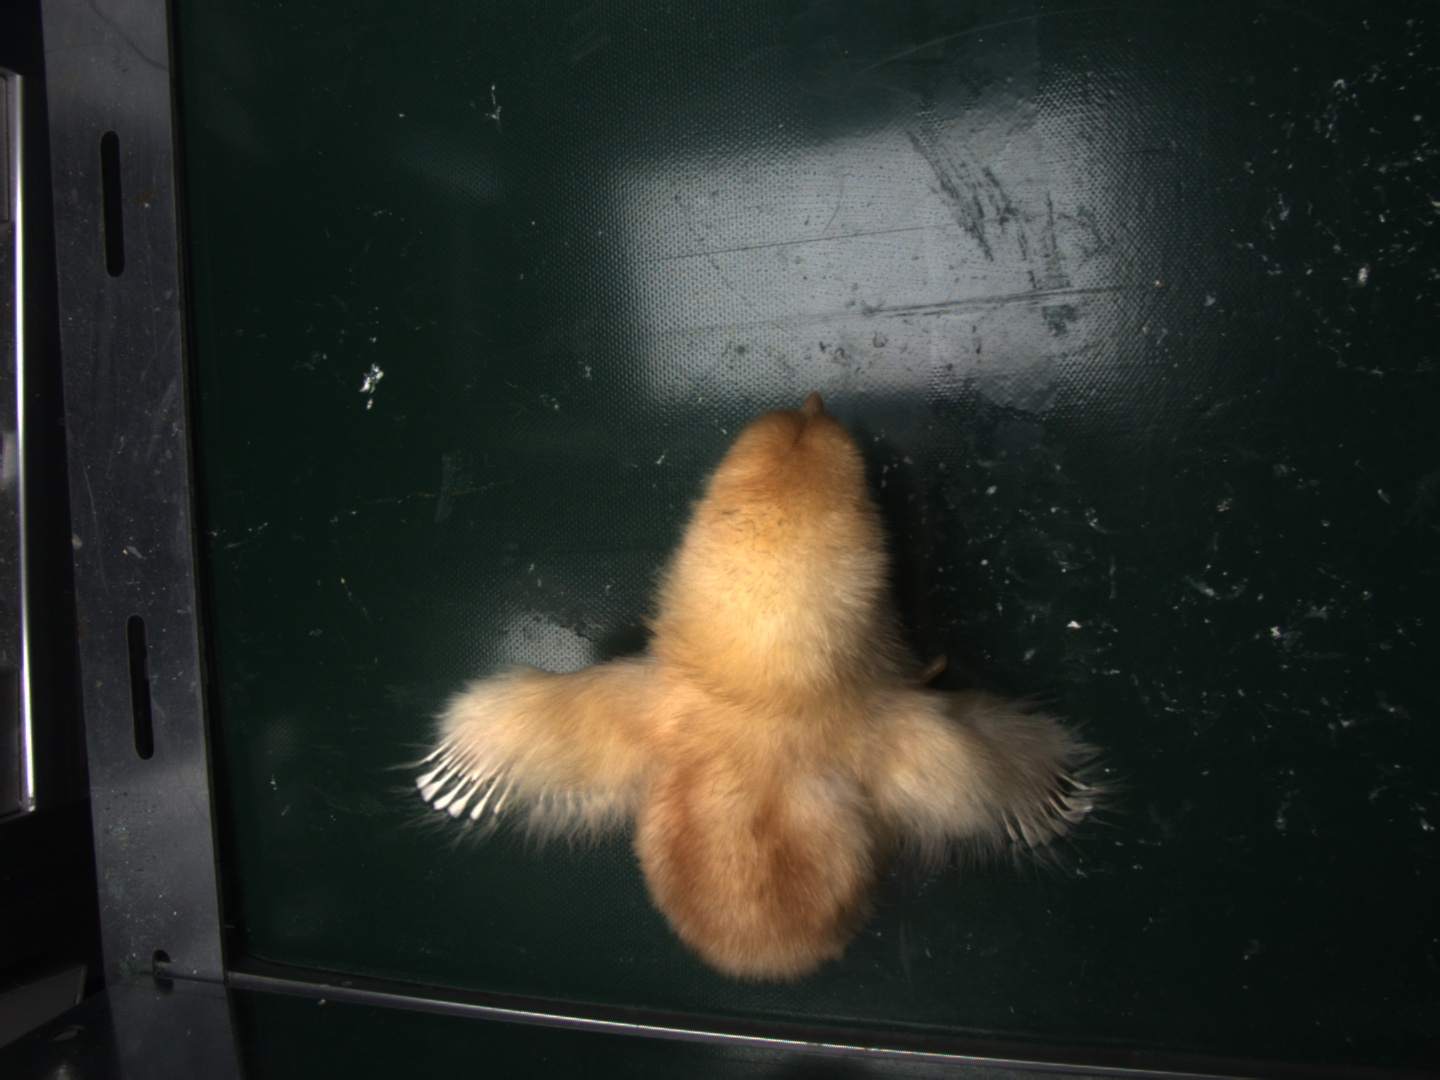female: (414, 736, 517, 819)
